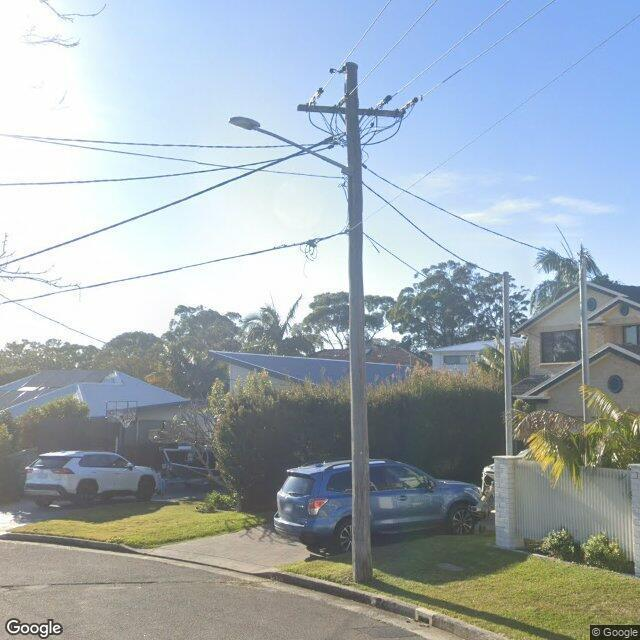crossarm: (296, 103, 405, 118)
steel-pole: (502, 271, 514, 456), (578, 258, 591, 424)
streetlight: (226, 115, 352, 175)
timber-pole: (343, 61, 374, 584)
